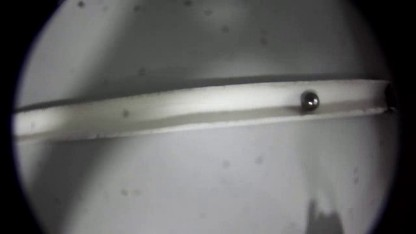gangzhu: (299, 90, 321, 113)
